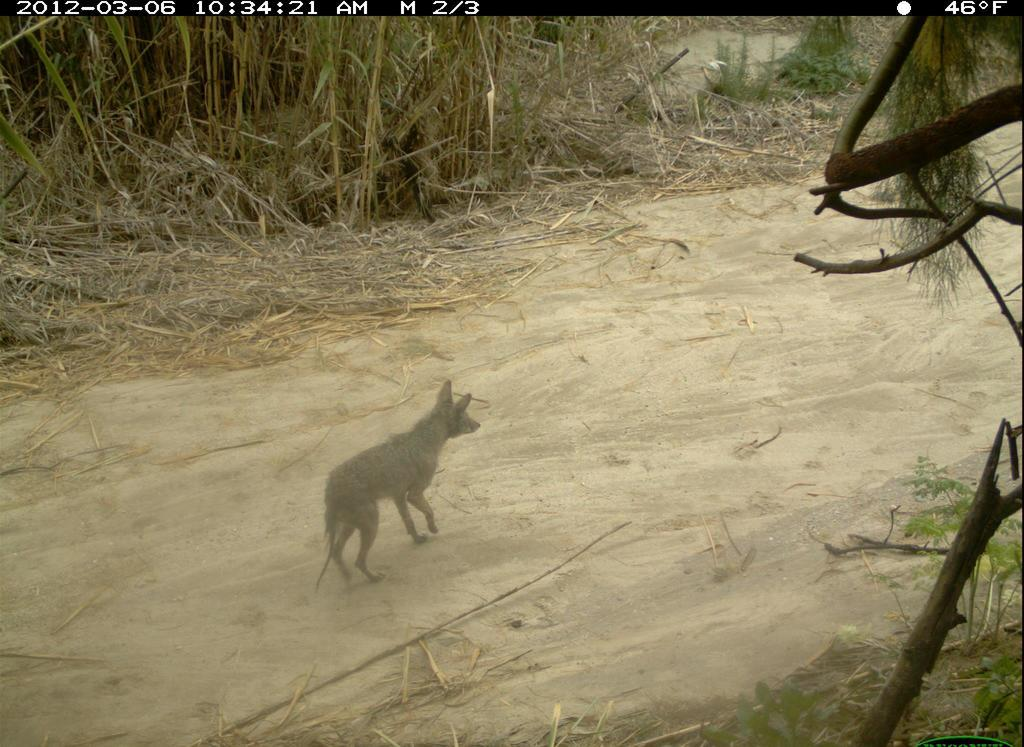coyote: (309, 379, 484, 588)
